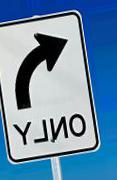right: (1, 10, 89, 116)
